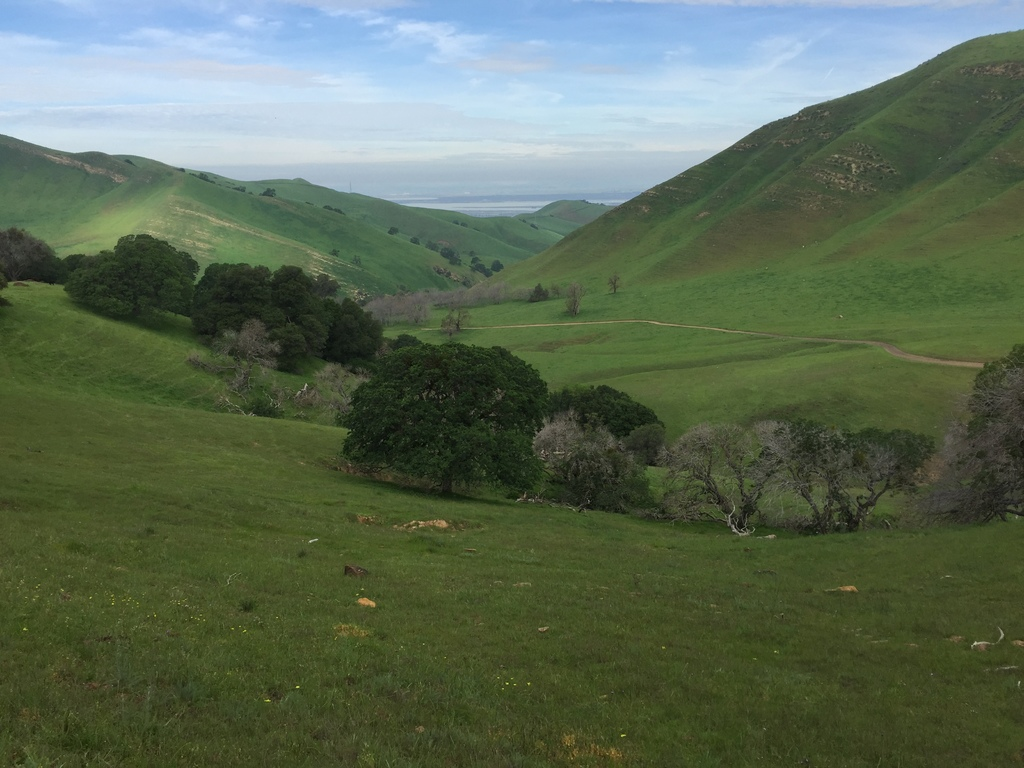Tree: (333, 332, 554, 494), (654, 418, 938, 535), (190, 259, 384, 373), (530, 382, 669, 506), (941, 343, 1023, 528), (61, 233, 197, 316), (2, 225, 66, 283)
